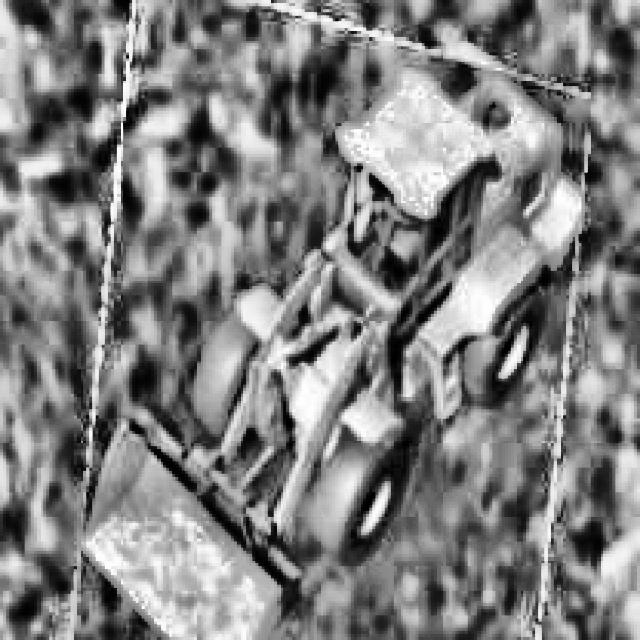buldozerpayloadergrader: (71, 46, 594, 640)
